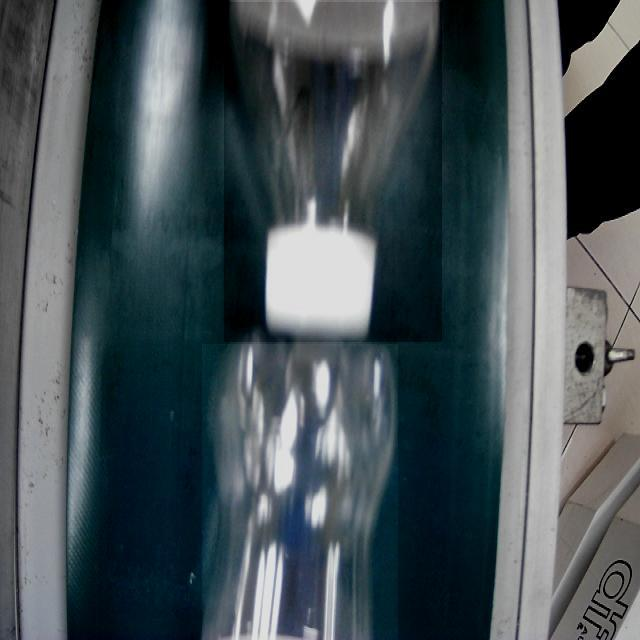Pet_Bottle: (224, 2, 442, 342), (202, 344, 398, 640)
